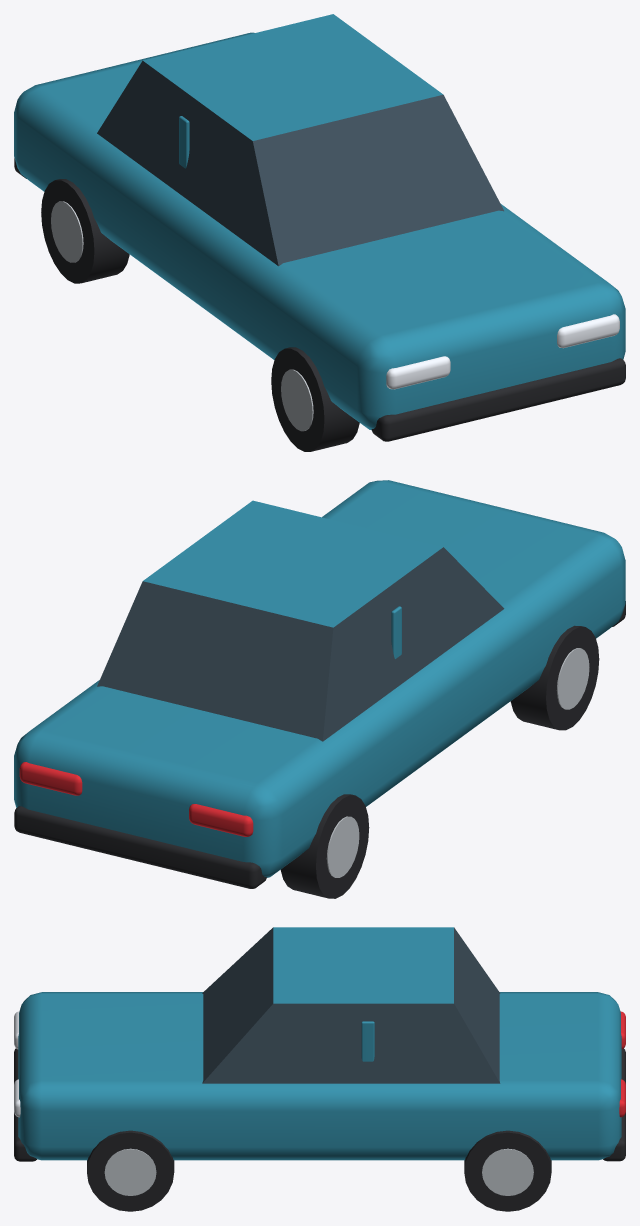
Rendered from obj_auto.glb.
3 renders of one model, top to bottom at view 1: azimuth 30°, elevation 25°; view 2: azimuth 150°, elevation 25°; view 3: azimuth 270°, elevation 25°, orthographic. The views are drawn at different scales.
Parts seen in each view (by area): view 1: Carrocería, Cabina, Parachoques delantero, Neumático, Neumático.001, Rin, Rin.001, Faro delantero, Faro delantero.001; view 2: Carrocería, Cabina, Parachoques trasero, Neumático, Neumático.001, Rin.001, Rin, Luz trasera, Luz trasera.001; view 3: Carrocería, Cabina, Neumático.003, Neumático.002, Rin.002, Rin.003, Parachoques delantero, Parachoques trasero, Pilar lateral.001.
Part boxes in pixels (<box>): Carrocería: <box>14,32,625,430</box>; Cabina: <box>97,14,503,266</box>; Parachoques delantero: <box>371,358,625,441</box>; Neumático: <box>271,347,359,451</box>; Neumático.001: <box>41,179,129,283</box>; Rin: <box>281,369,313,431</box>; Rin.001: <box>51,201,83,262</box>; Faro delantero: <box>386,356,450,389</box>; Faro delantero.001: <box>557,314,619,348</box>; Carrocería: <box>14,480,625,877</box>; Cabina: <box>97,500,504,741</box>; Parachoques trasero: <box>14,806,266,888</box>; Neumático: <box>510,625,599,730</box>; Neumático.001: <box>280,794,369,898</box>; Rin.001: <box>326,816,359,877</box>; Rin: <box>556,648,589,709</box>; Luz trasera: <box>189,804,253,836</box>; Luz trasera.001: <box>19,762,82,795</box>; Carrocería: <box>18,992,621,1160</box>; Cabina: <box>202,927,500,1083</box>; Neumático.003: <box>464,1130,551,1211</box>; Neumático.002: <box>87,1130,174,1211</box>; Rin.002: <box>104,1148,156,1195</box>; Rin.003: <box>482,1148,533,1195</box>; Parachoques delantero: <box>14,1048,36,1161</box>; Parachoques trasero: <box>603,1048,625,1161</box>; Pilar lateral.001: <box>361,1021,374,1061</box>.
Bounding box in the file's own units: 1.8 × 1.45 × 4.2.
